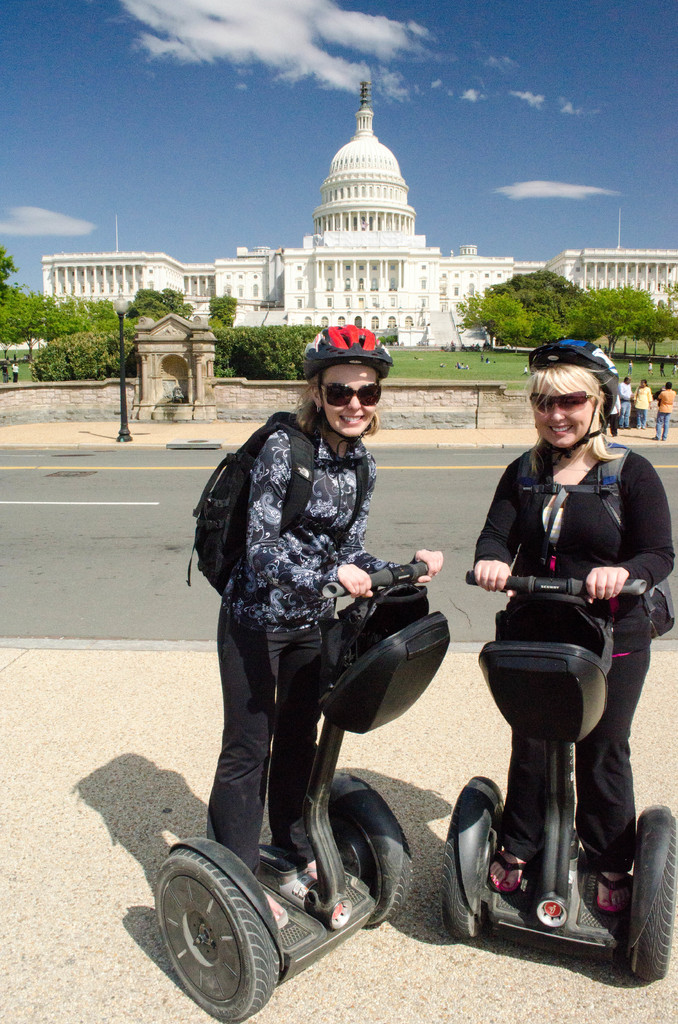Person: (183, 324, 447, 927), (470, 338, 674, 913), (655, 382, 678, 443), (631, 377, 651, 430), (618, 376, 632, 432), (658, 358, 668, 377), (10, 361, 19, 378), (521, 366, 532, 379), (627, 356, 635, 371), (648, 359, 653, 376), (478, 353, 484, 364), (461, 359, 463, 374)
